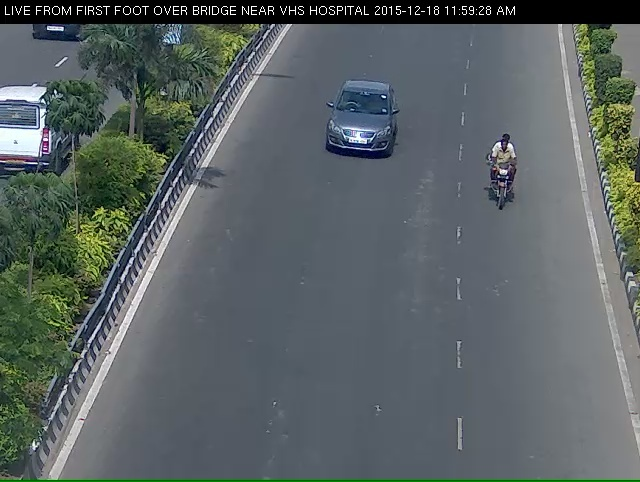Car: (315, 87, 394, 185)
Person: (480, 133, 527, 227)
